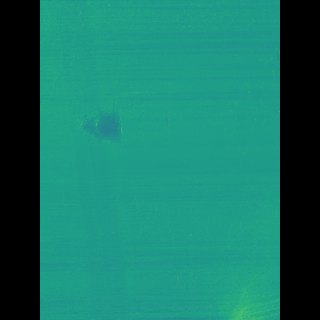Loch: (98, 91, 138, 151)
